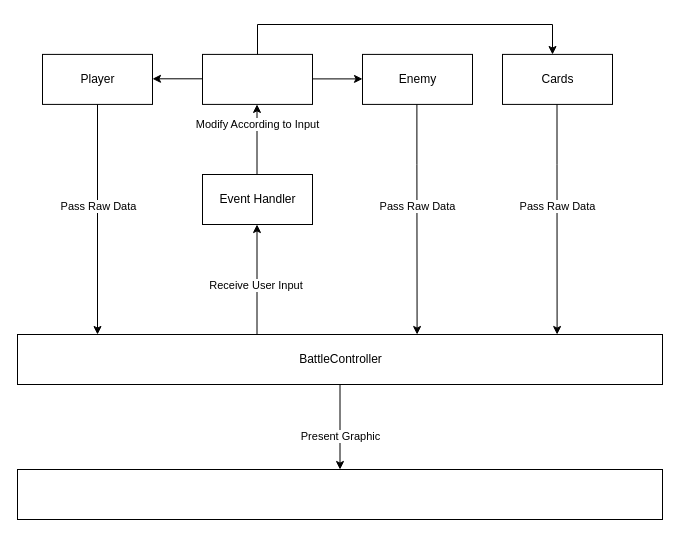
Some shapes in this 680 by 537 pixel diagram are drawn without their labels. Each missing label, with the centre of its shape:
"BattleData" belongs at pixel 257 78.
"BattleScreen" belongs at pixel 339 494.
